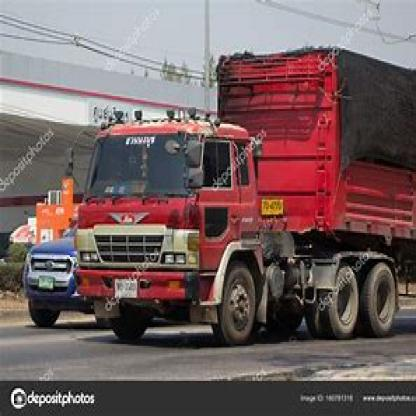dump_truck: (59, 89, 288, 355)
